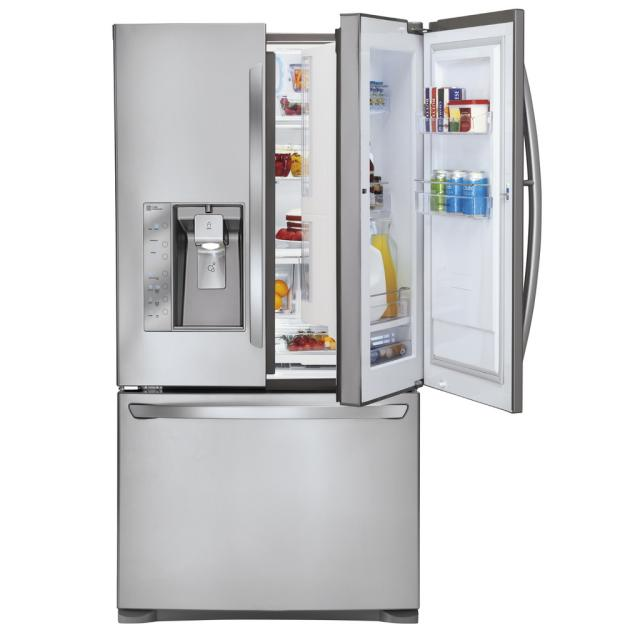refrigerator: (111, 25, 441, 631)
